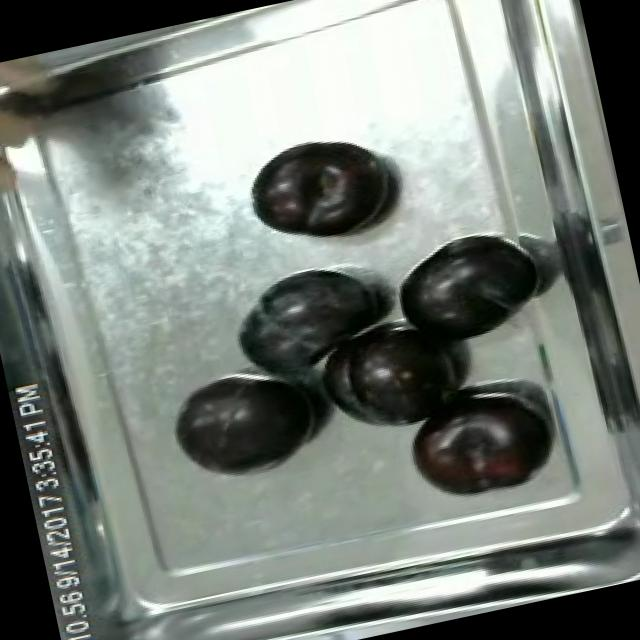Fruit: (234, 120, 407, 258), (379, 218, 552, 356), (158, 354, 330, 491), (226, 252, 391, 386), (396, 385, 562, 510)
